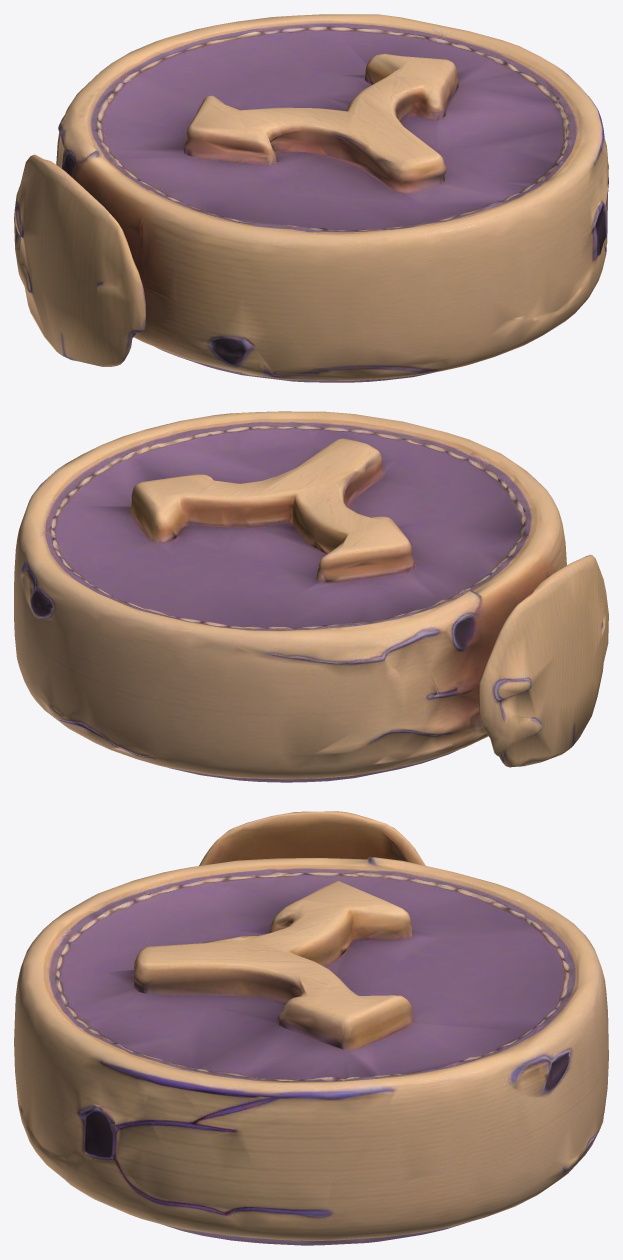
File: space-choice.glb
3 views of the same model, one above another, from view 1: azimuth 30°, elevation 25°; view 2: azimuth 150°, elevation 25°; view 3: azimuth 270°, elevation 25° (orthographic). The views are drawn at different scales.
Parts seen in each view (by area): view 1: Mesh_0; view 2: Mesh_0; view 3: Mesh_0.
Boxes of the visible parts, x1,y1,x2,y2 form: Mesh_0: (14,14,608,382); Mesh_0: (14,411,608,782); Mesh_0: (14,811,608,1245).
Size of the model in its own units: 2 by 0.6905 by 1.88.
Materials: 1 (1 with a texture image).
